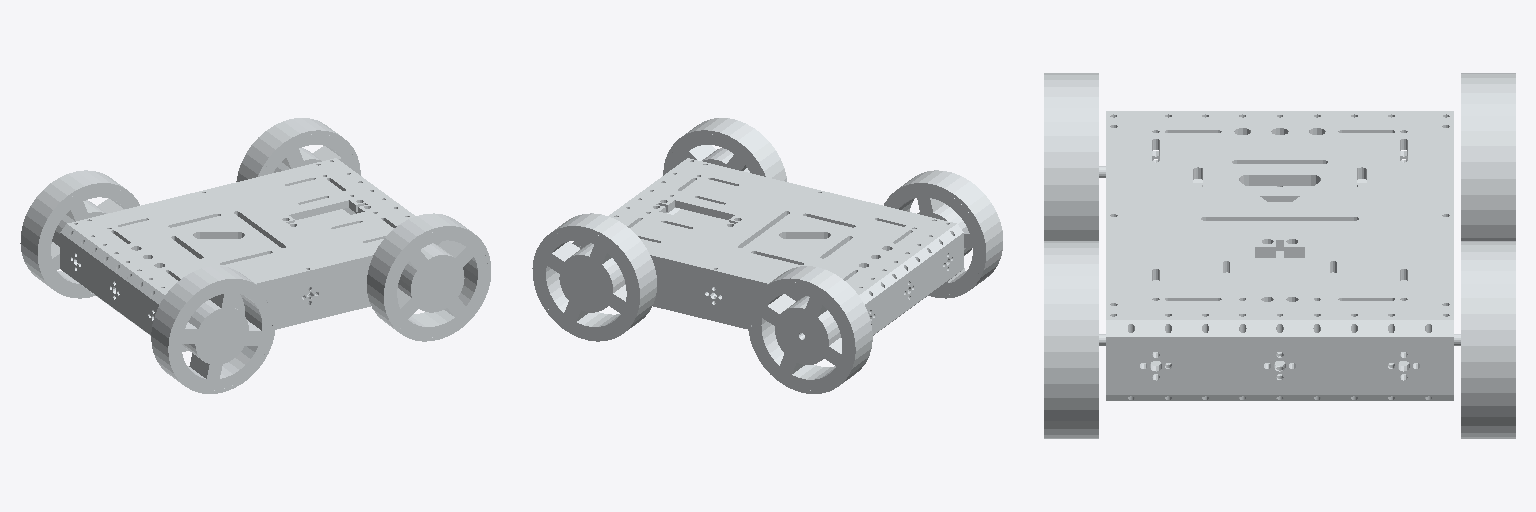
URDF robot description (my_robot_descirption_6):
<?xml version="1.0" encoding="utf-8"?>
<!-- This URDF was automatically created by SolidWorks to URDF Exporter! Originally created by [author] ([email redacted]) 
     Commit Version: 1.6.0-1-g15f4949  Build Version: 1.6.7594.29634
     For more information, please see http://wiki.ros.org/sw_urdf_exporter -->
<robot
  name="my_robot_descirption_6">
  <link
    name="base_link">
    <inertial>
      <origin
        xyz="0.000252209867107389 -0.00038555488684432 -0.000299158651990671"
        rpy="0 0 0" />
      <mass
        value="0.957708699167893" />
      <inertia
        ixx="0.00141349612035954"
        ixy="3.8205623738715E-14"
        ixz="9.82017698792152E-12"
        iyy="0.00215520955933847"
        iyz="1.33153730568242E-14"
        izz="0.00349743945422456" />
    </inertial>
    <visual>
      <origin
        xyz="0 0 0"
        rpy="0 0 0" />
      <geometry>
        <mesh
          filename="package://my_robot_descirption_6/meshes/base_link.STL" />
      </geometry>
      <material
        name="">
        <color
          rgba="0.898039215686275 0.917647058823529 0.929411764705882 1" />
      </material>
    </visual>
    <collision>
      <origin
        xyz="0 0 0"
        rpy="0 0 0" />
      <geometry>
        <mesh
          filename="package://my_robot_descirption_6/meshes/base_link.STL" />
      </geometry>
    </collision>
  </link>
  <link
    name="right_front_wheel_link">
    <inertial>
      <origin
        xyz="1.69194095939185E-06 0.011 -2.39602456181612E-06"
        rpy="0 0 0" />
      <mass
        value="0.205279642528535" />
      <inertia
        ixx="8.76570959286214E-05"
        ixy="-2.20206728368428E-21"
        ixz="7.9106463718466E-08"
        iyy="0.000159146108361823"
        iyz="1.5770111496766E-20"
        izz="8.80482369305033E-05" />
    </inertial>
    <visual>
      <origin
        xyz="0 0 0"
        rpy="0 0 0" />
      <geometry>
        <mesh
          filename="package://my_robot_descirption_6/meshes/right_front_wheel_link.STL" />
      </geometry>
      <material
        name="">
        <color
          rgba="0.898039215686275 0.917647058823529 0.929411764705882 1" />
      </material>
    </visual>
    <collision>
      <origin
        xyz="0 0 0"
        rpy="0 0 0" />
      <geometry>
        <mesh
          filename="package://my_robot_descirption_6/meshes/right_front_wheel_link.STL" />
      </geometry>
    </collision>
  </link>
  <joint
    name="right_front_wheel_joint"
    type="continuous">
    <origin
      xyz="0.080119 -0.095001 0.00037775"
      rpy="0 0 0" />
    <parent
      link="base_link" />
    <child
      link="right_front_wheel_link" />
    <axis
      xyz="0 1 0" />
  </joint>
  <link
    name="left_front_wheel_link">
    <inertial>
      <origin
        xyz="-2.73293422589638E-06 -0.011 -1.06520816169076E-06"
        rpy="0 0 0" />
      <mass
        value="0.205279642528536" />
      <inertia
        ixx="8.77033194033012E-05"
        ixy="-3.08687580188302E-21"
        ixz="1.4900039995678E-07"
        iyy="0.000159146108361823"
        iyz="2.63664442466982E-20"
        izz="8.80020134558235E-05" />
    </inertial>
    <visual>
      <origin
        xyz="0 0 0"
        rpy="0 0 0" />
      <geometry>
        <mesh
          filename="package://my_robot_descirption_6/meshes/left_front_wheel_link.STL" />
      </geometry>
      <material
        name="">
        <color
          rgba="0.898039215686275 0.917647058823529 0.929411764705882 1" />
      </material>
    </visual>
    <collision>
      <origin
        xyz="0 0 0"
        rpy="0 0 0" />
      <geometry>
        <mesh
          filename="package://my_robot_descirption_6/meshes/left_front_wheel_link.STL" />
      </geometry>
    </collision>
  </link>
  <joint
    name="left_front_wheel_joint"
    type="continuous">
    <origin
      xyz="0.080187 0.094999 0.00035735"
      rpy="0 0 0" />
    <parent
      link="base_link" />
    <child
      link="left_front_wheel_link" />
    <axis
      xyz="0 1 0" />
  </joint>
  <link
    name="right_back_wheel_link">
    <inertial>
      <origin
        xyz="6.61278274194377E-07 0.011 2.85767544605867E-06"
        rpy="0 0 0" />
      <mass
        value="0.205279642528535" />
      <inertia
        ixx="8.79534475613262E-05"
        ixy="9.74180014547912E-20"
        ixz="1.8533433821266E-07"
        iyy="0.000159146108361823"
        iyz="-3.65660736267734E-20"
        izz="8.77518852977985E-05" />
    </inertial>
    <visual>
      <origin
        xyz="0 0 0"
        rpy="0 0 0" />
      <geometry>
        <mesh
          filename="package://my_robot_descirption_6/meshes/right_back_wheel_link.STL" />
      </geometry>
      <material
        name="">
        <color
          rgba="0.898039215686275 0.917647058823529 0.929411764705882 1" />
      </material>
    </visual>
    <collision>
      <origin
        xyz="0 0 0"
        rpy="0 0 0" />
      <geometry>
        <mesh
          filename="package://my_robot_descirption_6/meshes/right_back_wheel_link.STL" />
      </geometry>
    </collision>
  </link>
  <joint
    name="right_back_wheel_joint"
    type="continuous">
    <origin
      xyz="-0.079865 -0.095001 0.00029721"
      rpy="0 0 0" />
    <parent
      link="base_link" />
    <child
      link="right_back_wheel_link" />
    <axis
      xyz="0 1 0" />
  </joint>
  <link
    name="leftt_back_wheel_link">
    <inertial>
      <origin
        xyz="-2.73293422597964E-06 -0.011 -1.06520816169423E-06"
        rpy="0 0 0" />
      <mass
        value="0.205279642528536" />
      <inertia
        ixx="8.77033194033012E-05"
        ixy="-1.32673107163055E-21"
        ixz="1.49000399956759E-07"
        iyy="0.000159146108361823"
        iyz="2.27134867156513E-20"
        izz="8.80020134558235E-05" />
    </inertial>
    <visual>
      <origin
        xyz="0 0 0"
        rpy="0 0 0" />
      <geometry>
        <mesh
          filename="package://my_robot_descirption_6/meshes/leftt_back_wheel_link.STL" />
      </geometry>
      <material
        name="">
        <color
          rgba="0.898039215686275 0.917647058823529 0.929411764705882 1" />
      </material>
    </visual>
    <collision>
      <origin
        xyz="0 0 0"
        rpy="0 0 0" />
      <geometry>
        <mesh
          filename="package://my_robot_descirption_6/meshes/leftt_back_wheel_link.STL" />
      </geometry>
    </collision>
  </link>
  <joint
    name="leftt_back_wheel_joint"
    type="continuous">
    <origin
      xyz="-0.079813 0.094999 0.00035735"
      rpy="0 0 0" />
    <parent
      link="base_link" />
    <child
      link="leftt_back_wheel_link" />
    <axis
      xyz="0 1 0" />
  </joint>

    <link name="lidar_link">
        <inertial>
            <origin xyz="0.0 0.0 0.0" rpy="0.0 0.0 0.0"/>
            <mass value="0.1"/>
            <inertia ixx="0.0" ixy="0.0" ixz="0.0" iyy="0.0" iyz="0.0" izz="0.0"/>
        </inertial>
        <visual name="lidar_link_visual">
            <origin xyz="0.0 0.0 0.0" rpy="0.0 0.0 0.0"/>
            <geometry>
                <mesh filename="package://my_robot_descirption_6/meshes/lidar_link.STL"/>
            </geometry>
            <material name="">
                <color rgba="1.0 0.0 0.0 1.0"/>
                <texture filename=""/>
            </material>
        </visual>
        <collision>
            <origin xyz="0.0 0.0 0.0" rpy="0.0 0.0 0.0"/>
            <geometry>
                <box size="0.1 0.1 0.1"/>
            </geometry>
        </collision>
    </link>

    <joint name="lidar_joint" type="fixed">
        <origin xyz="0.04 0.0 0.045" rpy="1.5708 0.0 0.0"/>
        <parent link="base_link"/>
        <child link="lidar_link"/>
    </joint>

    <link name="laser_data_link">
        
    </link>

    <joint name="laser_data_joint" type="fixed">
        <origin xyz="0.0 0.0 0.0" rpy="0.0 -1.5708 -1.5708"/>
        <parent link="lidar_link"/>
        <child link="laser_data_link"/>
    </joint>


</robot>

--- Facts derived from the render (not from the file) ---
Views: 3 orthographic renders of the robot side by side, from view 1: azimuth 30°, elevation 25°; view 2: azimuth 150°, elevation 25°; view 3: azimuth 270°, elevation 25°.
Model my_robot_descirption_6 with 7 links and 6 joints (4 continuous, 2 fixed), rooted at base_link, posed every joint at zero.
Links seen in each view (by area): view 1: base_link, right_front_wheel_link, right_back_wheel_link, leftt_back_wheel_link, left_front_wheel_link; view 2: base_link, leftt_back_wheel_link, left_front_wheel_link, right_back_wheel_link, right_front_wheel_link; view 3: base_link, right_front_wheel_link, left_front_wheel_link, right_back_wheel_link, leftt_back_wheel_link.
Boxes of the visible links, box(x1,y1,x2,y2) form: base_link: box(60, 158, 441, 351); right_front_wheel_link: box(367, 213, 490, 341); right_back_wheel_link: box(151, 266, 275, 393); leftt_back_wheel_link: box(20, 170, 139, 298); left_front_wheel_link: box(236, 118, 360, 181); base_link: box(572, 158, 963, 335); leftt_back_wheel_link: box(748, 266, 872, 393); left_front_wheel_link: box(532, 213, 656, 341); right_back_wheel_link: box(884, 170, 1002, 298); right_front_wheel_link: box(663, 118, 786, 181); base_link: box(1099, 111, 1460, 400); right_front_wheel_link: box(1044, 241, 1098, 438); left_front_wheel_link: box(1461, 241, 1515, 438); right_back_wheel_link: box(1044, 73, 1098, 240); leftt_back_wheel_link: box(1461, 73, 1515, 240).
Bounding box of the posed robot: 0.24 × 0.19 × 0.0799 m (x, y, z).
5 mesh visuals loaded from 6 distinct referenced files (5 binary STL); not drawn: 1 (reference not matched to a file when rendering).